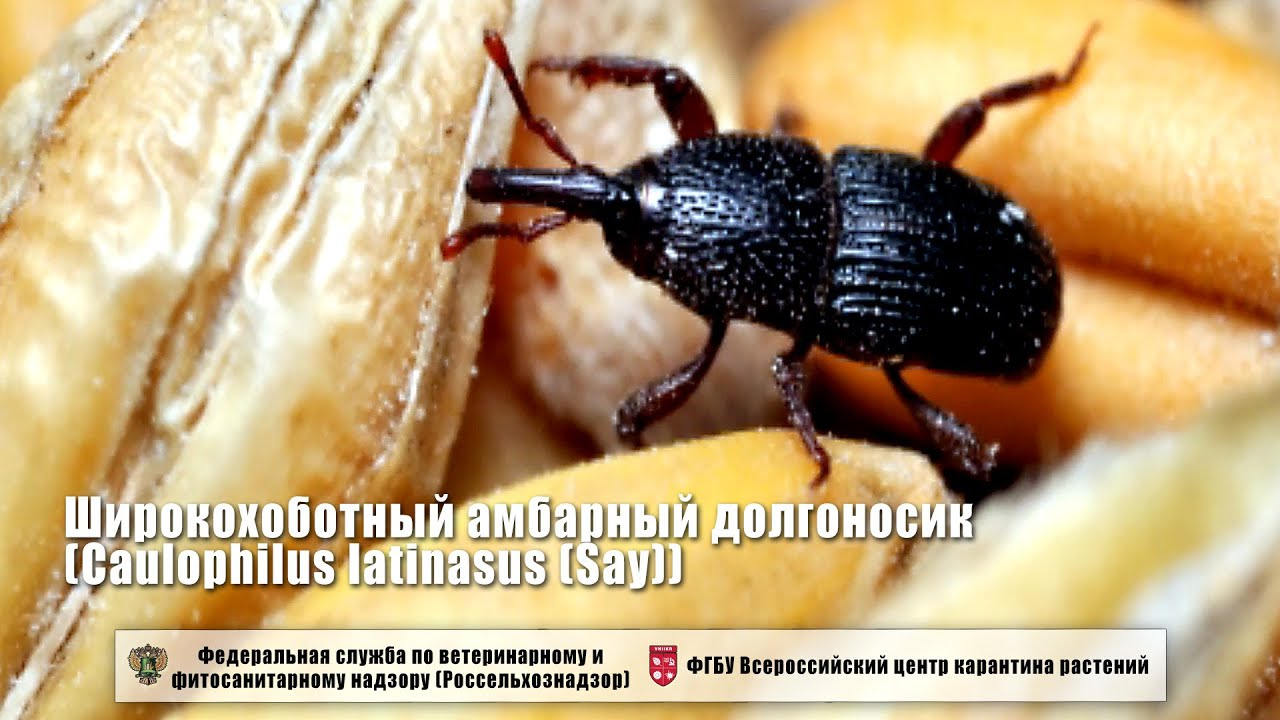dolgonosik: (441, 26, 1091, 493)
